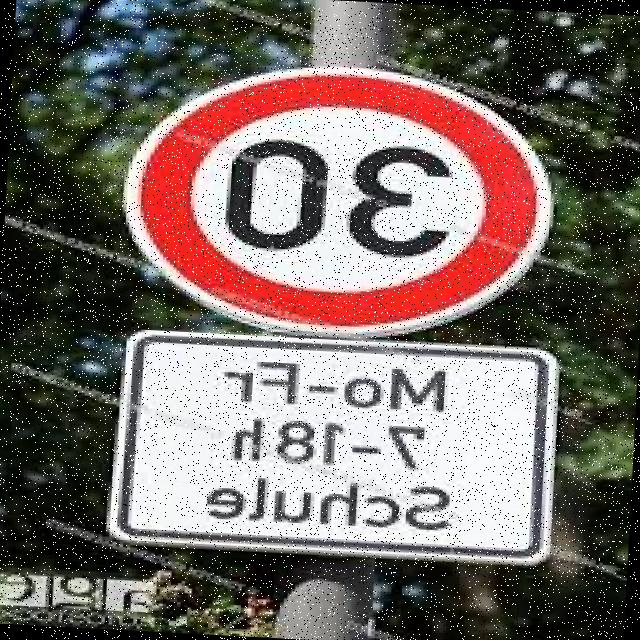speed_limit_30: (109, 51, 566, 350)
